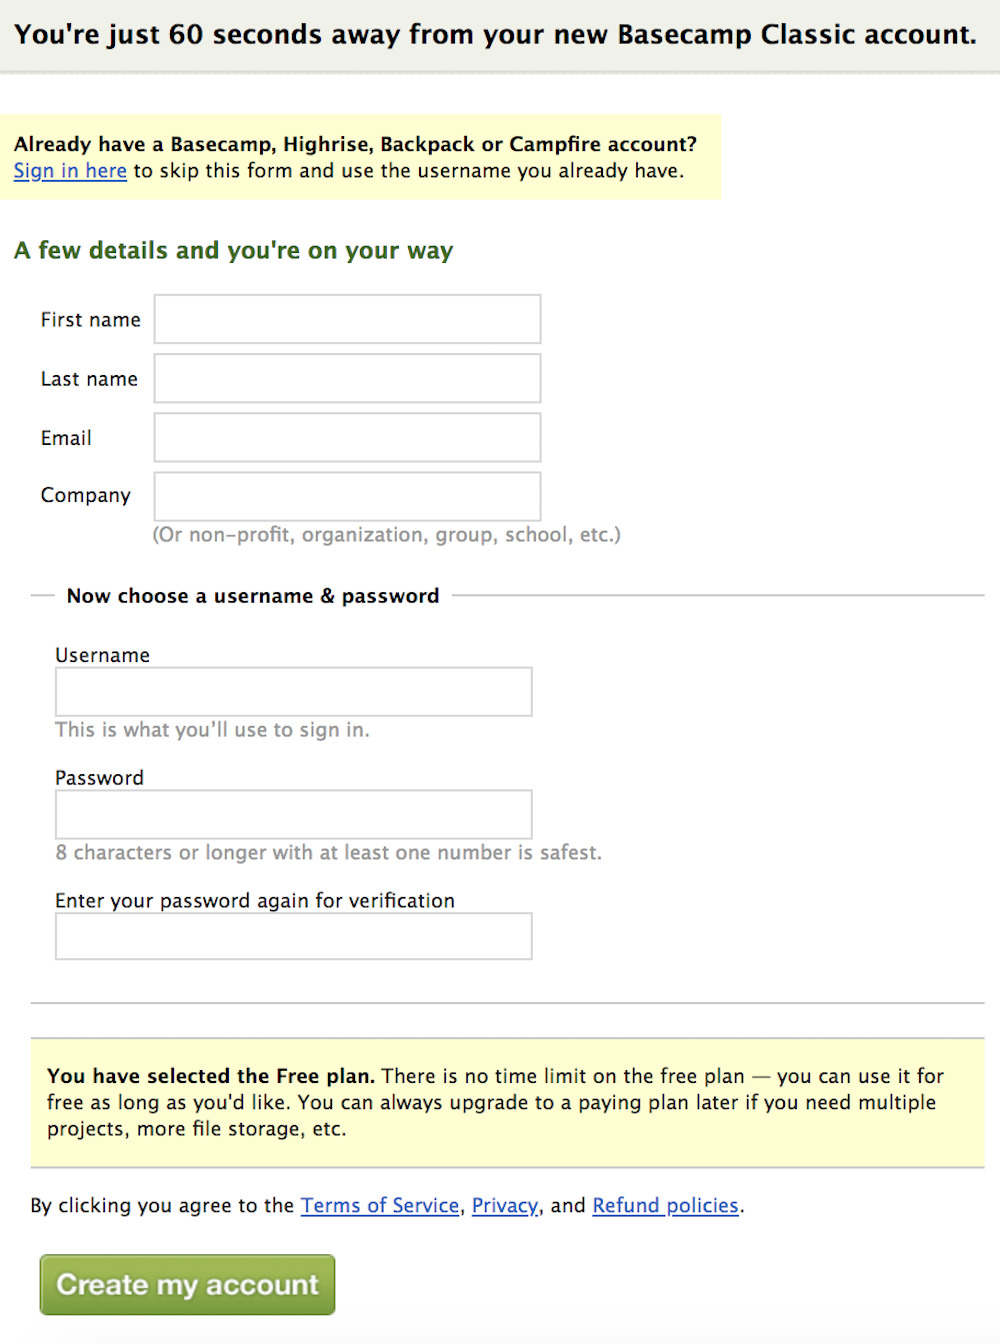_form_: (2, 219, 553, 632), (40, 614, 584, 1009)
button: (34, 1249, 342, 1321)
field: (53, 909, 535, 964), (51, 786, 538, 840), (53, 666, 539, 718), (149, 291, 544, 346), (149, 411, 546, 465), (151, 351, 544, 405), (151, 469, 546, 523)
field_with_label: (45, 640, 548, 724), (48, 768, 543, 846), (49, 891, 541, 970), (36, 348, 551, 414), (36, 288, 549, 353), (39, 464, 555, 528), (38, 409, 562, 470)
